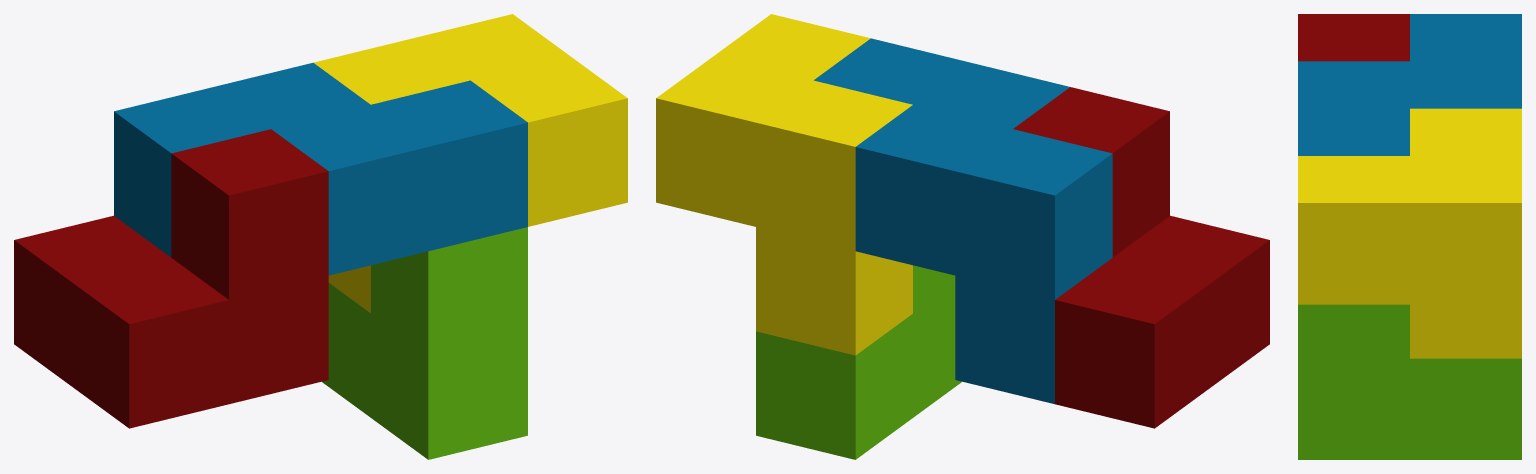
3 views of the same model, side by side, from view 1: azimuth 30°, elevation 25°; view 2: azimuth 150°, elevation 25°; view 3: azimuth 270°, elevation 25° (orthographic). The views are drawn at different scales.
Parts seen in each view (by area): view 1: mergedBlocks(Clone); view 2: mergedBlocks(Clone); view 3: mergedBlocks(Clone).
Boxes of the visible parts, x1=… form: mergedBlocks(Clone): x1=14, y1=14, x2=627, y2=459; mergedBlocks(Clone): x1=656, y1=14, x2=1269, y2=459; mergedBlocks(Clone): x1=1298, y1=14, x2=1521, y2=459.
Size of the model in its own units: 5 by 3 by 2.
Materials: 4 (4 with a texture image).
